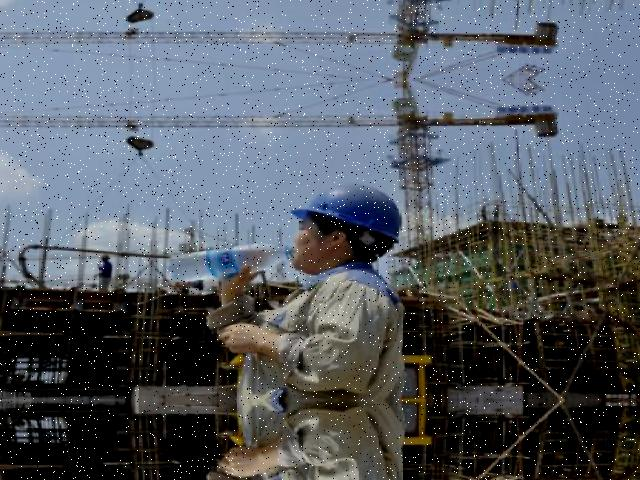Helmet: (284, 178, 413, 252)
